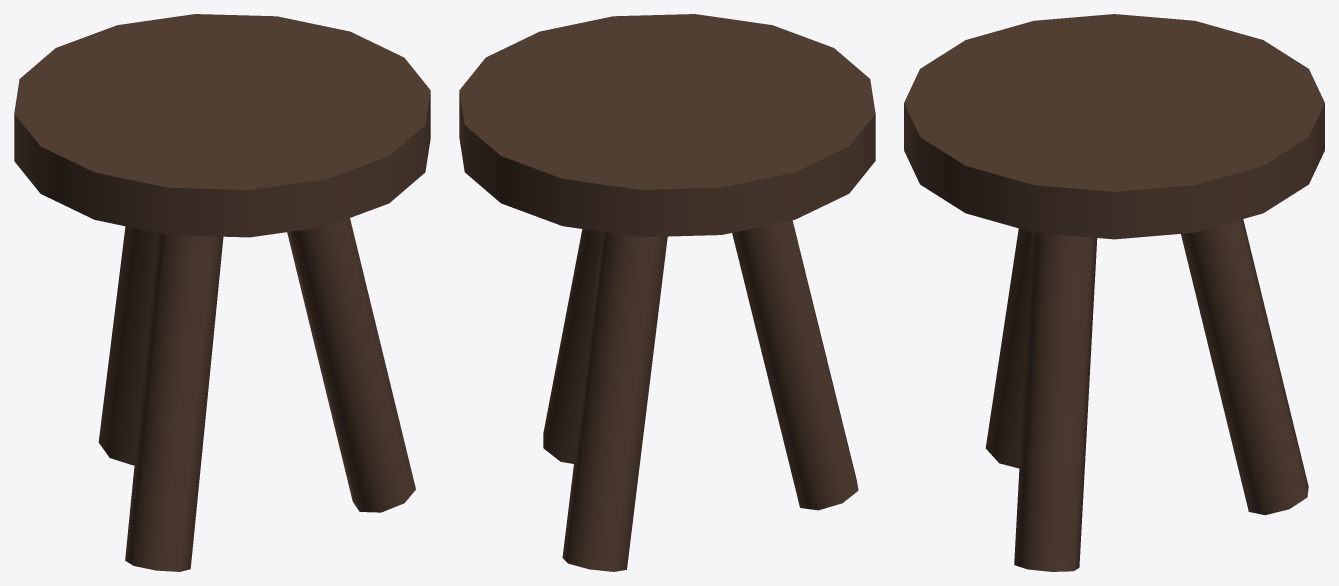
The model's file is S_Stool.fbx.
The picture shows the model from 3 angles, left to right: view 1: azimuth 30°, elevation 25°; view 2: azimuth 150°, elevation 25°; view 3: azimuth 270°, elevation 25°; orthographic projection.
Parts seen in each view (by area): view 1: S_Stool; view 2: S_Stool; view 3: S_Stool.
Boxes of the visible parts, x1,y1,x2,y2 form: S_Stool: [14, 14, 430, 571]; S_Stool: [459, 14, 875, 571]; S_Stool: [904, 14, 1324, 571].
Bounding box in the file's own units: 40 × 42.84 × 40.
